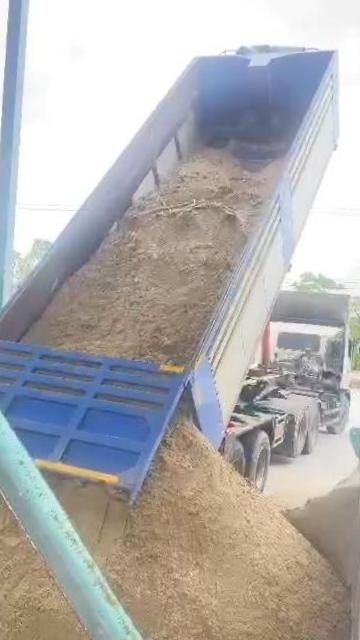sand: (52, 424, 347, 640), (25, 150, 280, 363), (0, 477, 133, 640), (285, 472, 360, 595)
